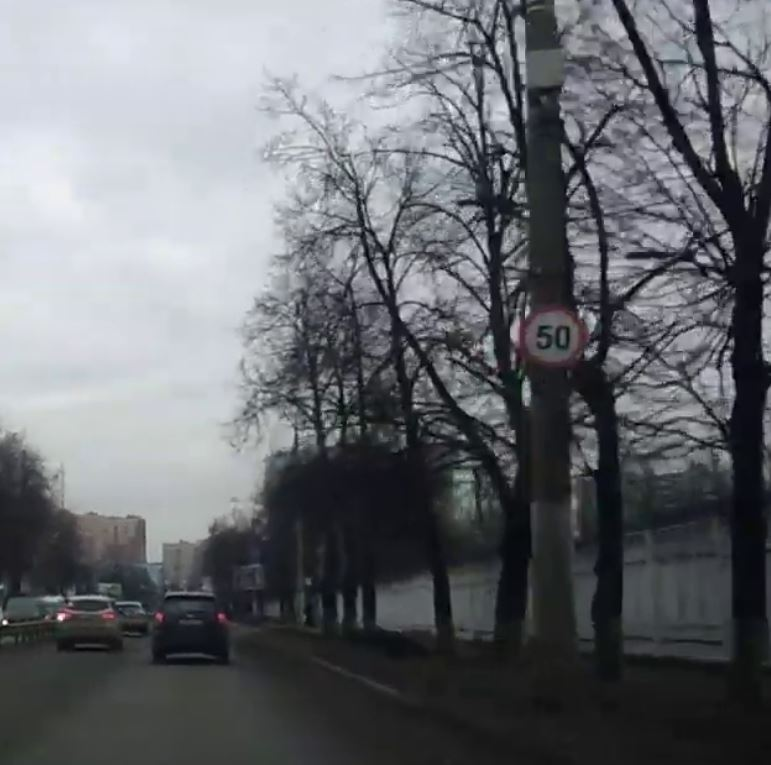50 Km Hiz Siniri: (512, 296, 593, 368)
